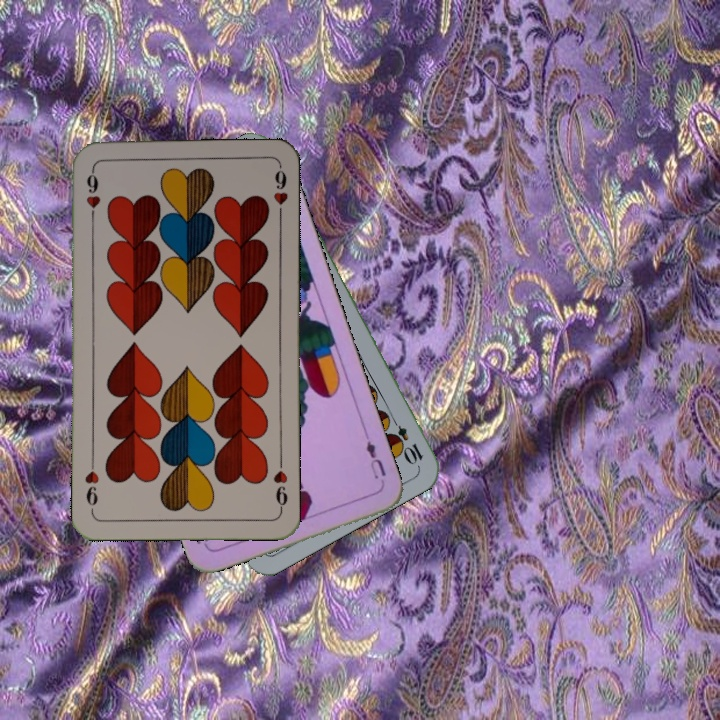E10: (385, 412, 426, 467)
EU: (361, 430, 389, 482)
H9: (269, 454, 290, 513), (82, 165, 103, 224)
